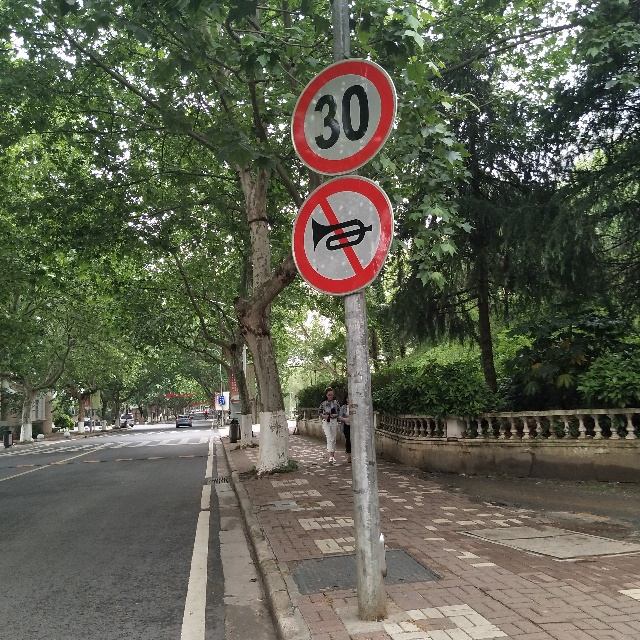nohonk: (295, 173, 397, 295)
